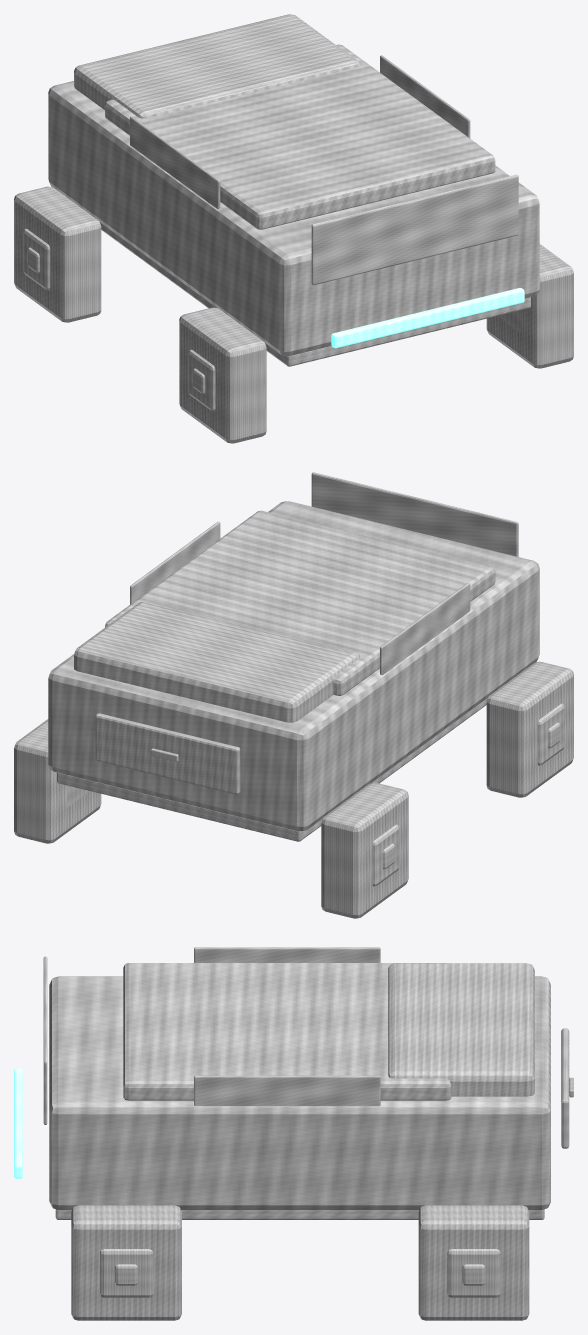
Rendered from cyber_wagon_variant_c.glb.
The picture shows the model from 3 angles, top to bottom: view 1: azimuth 30°, elevation 25°; view 2: azimuth 150°, elevation 25°; view 3: azimuth 270°, elevation 25°; orthographic projection. The views are drawn at different scales.
Visible parts, largest first — view 1: Central chassis shell, Replaceable upper shell, Rear service pod, Panoramic windshield, Square wheel.009, Square wheel.008, Square wheel.010, Front light bar.002, Lower chassis skid plate.002, Side glazing, Side glazing.001, Square wheel hub.008 (+1 smaller); view 2: Central chassis shell, Replaceable upper shell, Rear service pod, Square wheel.008, Square wheel.009, Panoramic windshield, Rear cargo hatch.002, Square wheel.011, Lower chassis skid plate.002, Side glazing, Side glazing.001, Square wheel hub.009 (+1 smaller); view 3: Central chassis shell, Replaceable upper shell, Rear service pod, Square wheel.011, Square wheel.010, Side glazing.001, Side glazing, Lower chassis skid plate.002, Square wheel hub.011, Square wheel hub.010, Rear cargo hatch.002, Front light bar.002 (+3 smaller).
Part boxes in pixels (x1,y1,x2,y2): Central chassis shell: [48, 81, 539, 356]; Replaceable upper shell: [105, 44, 495, 229]; Rear service pod: [74, 14, 359, 118]; Panoramic windshield: [311, 174, 518, 285]; Square wheel.009: [14, 186, 101, 322]; Square wheel.008: [179, 307, 266, 443]; Square wheel.010: [486, 244, 573, 368]; Front light bar.002: [331, 288, 524, 348]; Lower chassis skid plate.002: [100, 222, 530, 366]; Side glazing: [130, 116, 220, 209]; Side glazing.001: [380, 55, 470, 138]; Square wheel hub.008: [188, 349, 215, 411]; Central chassis shell: [48, 501, 539, 831]; Replaceable upper shell: [105, 510, 495, 695]; Rear service pod: [74, 601, 360, 722]; Square wheel.008: [486, 661, 573, 797]; Square wheel.009: [321, 782, 408, 918]; Panoramic windshield: [311, 472, 518, 556]; Rear cargo hatch.002: [95, 713, 240, 794]; Square wheel.011: [14, 719, 101, 843]; Lower chassis skid plate.002: [57, 698, 487, 841]; Side glazing: [380, 582, 470, 675]; Side glazing.001: [130, 521, 220, 604]; Square wheel hub.009: [372, 824, 399, 886]; Central chassis shell: [49, 976, 550, 1209]; Replaceable upper shell: [123, 963, 451, 1100]; Rear service pod: [388, 963, 534, 1096]; Square wheel.011: [418, 1205, 529, 1320]; Square wheel.010: [71, 1205, 181, 1320]; Side glazing.001: [194, 1075, 380, 1106]; Side glazing: [194, 947, 380, 962]; Lower chassis skid plate.002: [55, 1209, 544, 1219]; Square wheel hub.011: [447, 1249, 500, 1297]; Square wheel hub.010: [100, 1249, 153, 1297]; Rear cargo hatch.002: [561, 1028, 569, 1148]; Front light bar.002: [14, 1068, 22, 1178].
Size of what is drawn, in the model's own units: 3.39 by 1.93 by 4.35.
Materials: 7 (7 with a texture image).
